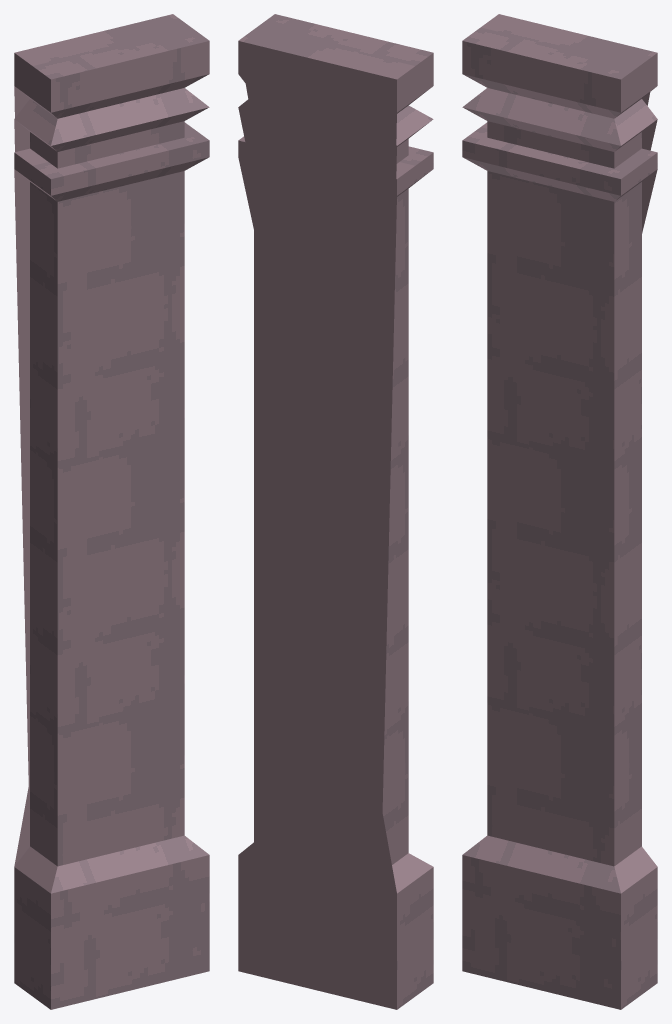
The model's file is wandpfeiler_gang_b.glb.
3 renders of one model, left to right at view 1: azimuth 30°, elevation 25°; view 2: azimuth 150°, elevation 25°; view 3: azimuth 330°, elevation 25°, orthographic.
Parts seen in each view (by area): view 1: pfeiler_gang; view 2: pfeiler_gang; view 3: pfeiler_gang.
Boxes of the visible parts, x1,y1,x2,y2 form: pfeiler_gang: [14, 14, 209, 1009]; pfeiler_gang: [238, 14, 433, 1009]; pfeiler_gang: [462, 14, 657, 1009].
Bounding box in the file's own units: 0.625 × 3.5 × 0.25.
1 material, 1 textured.
